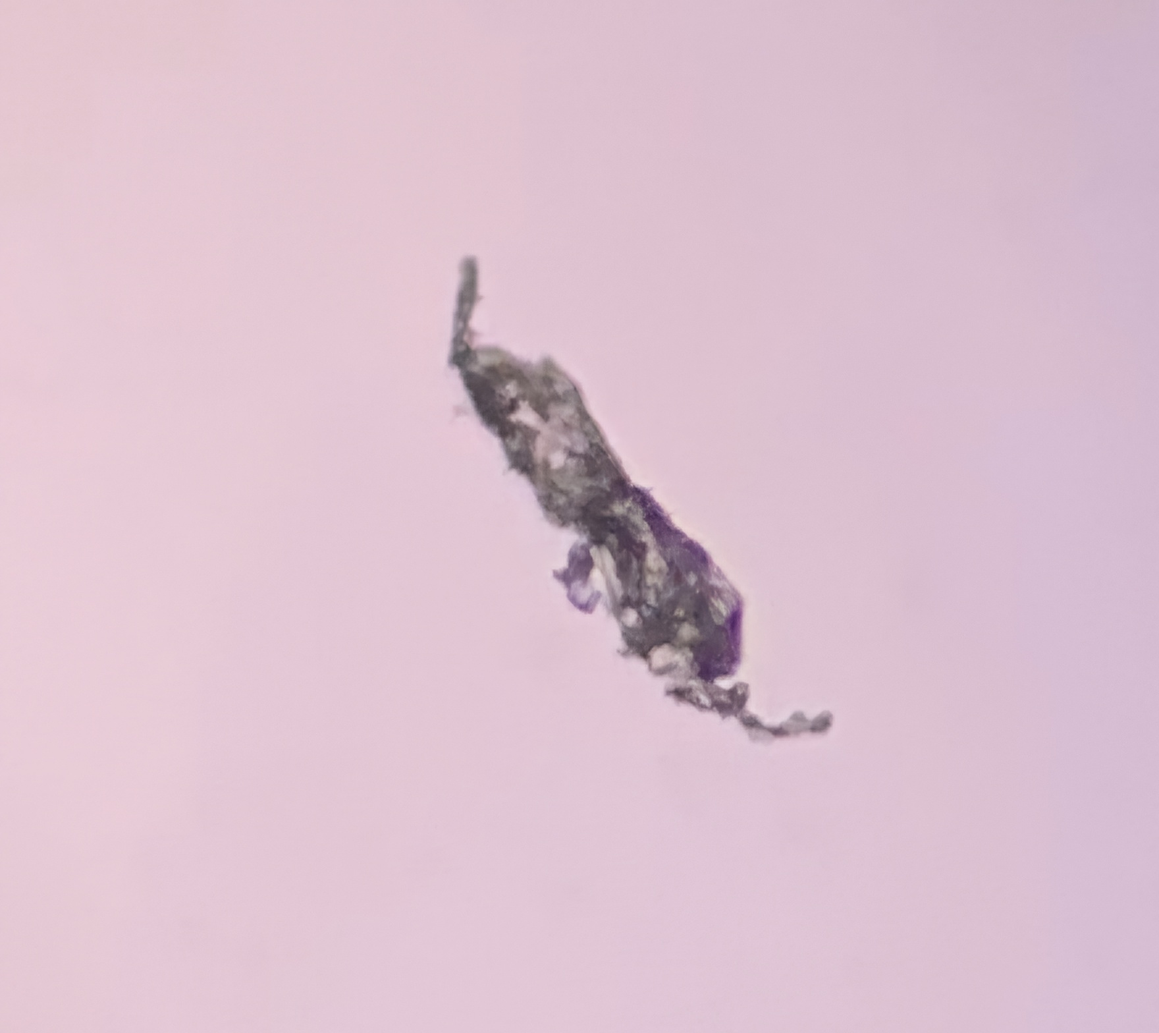microplastic: (434, 243, 849, 752)
